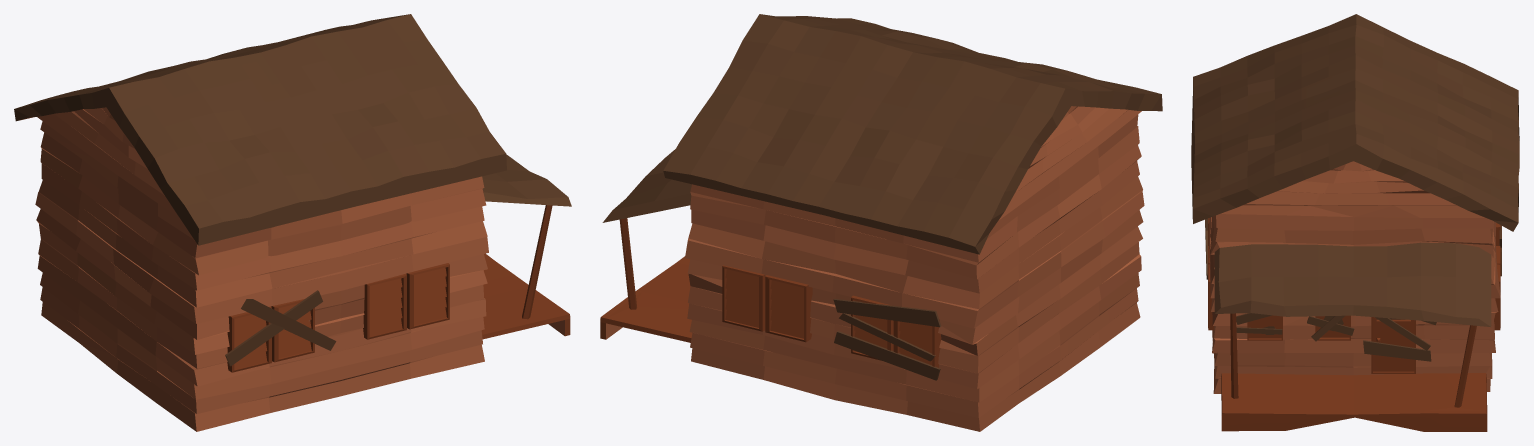
The model's file is Building_03.fbx.
The picture shows the model from 3 angles, left to right: view 1: azimuth 30°, elevation 25°; view 2: azimuth 150°, elevation 25°; view 3: azimuth 270°, elevation 25°; orthographic projection. The views are drawn at different scales.
Parts seen in each view (by area): view 1: Building_03, Windows, Planks_dark; view 2: Building_03, Windows, Planks_dark; view 3: Building_03, Planks_dark, Windows.
Boxes of the visible parts, <box> form: Building_03: <box>14,14,571,431</box>; Windows: <box>227,263,449,372</box>; Planks_dark: <box>225,290,336,366</box>; Building_03: <box>600,14,1162,431</box>; Windows: <box>722,265,941,367</box>; Planks_dark: <box>833,298,941,380</box>; Building_03: <box>1191,14,1519,431</box>; Planks_dark: <box>1205,218,1501,361</box>; Windows: <box>1208,218,1500,330</box>.
Size of the model in its own units: 944 by 672 by 781.
